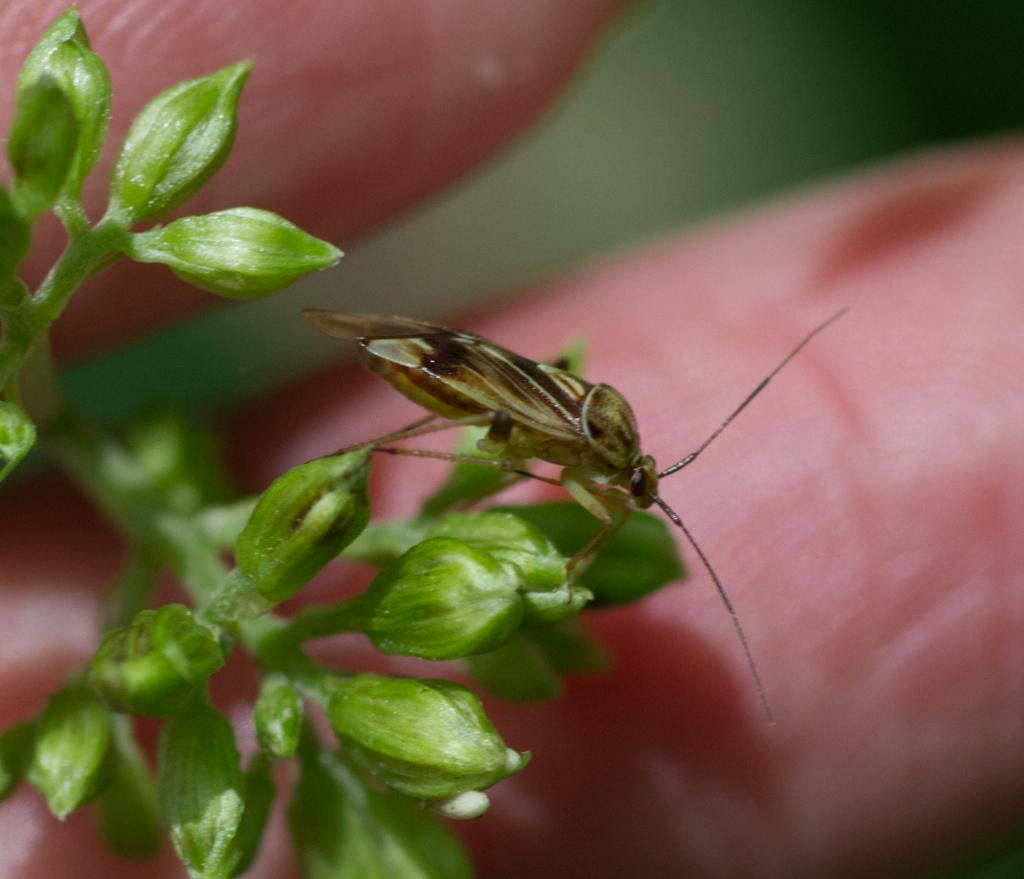plant_bugs: (273, 234, 910, 776)
